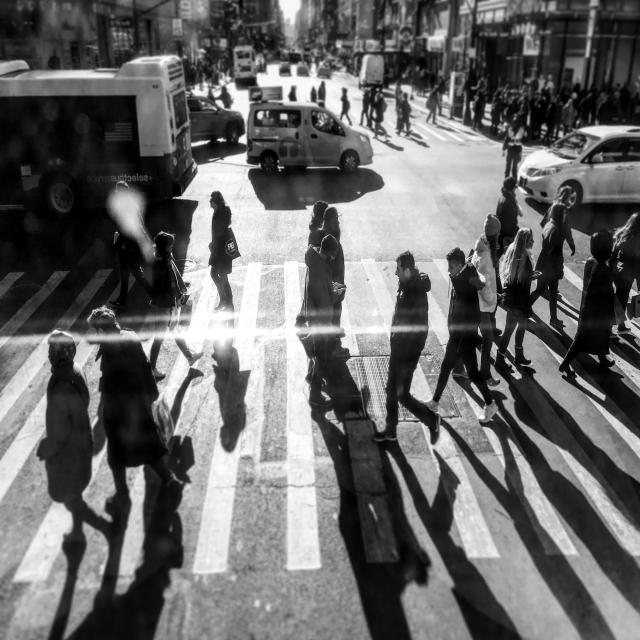adult: (368, 246, 442, 460), (421, 247, 498, 424), (453, 212, 507, 388), (494, 222, 544, 374), (208, 183, 244, 317)
